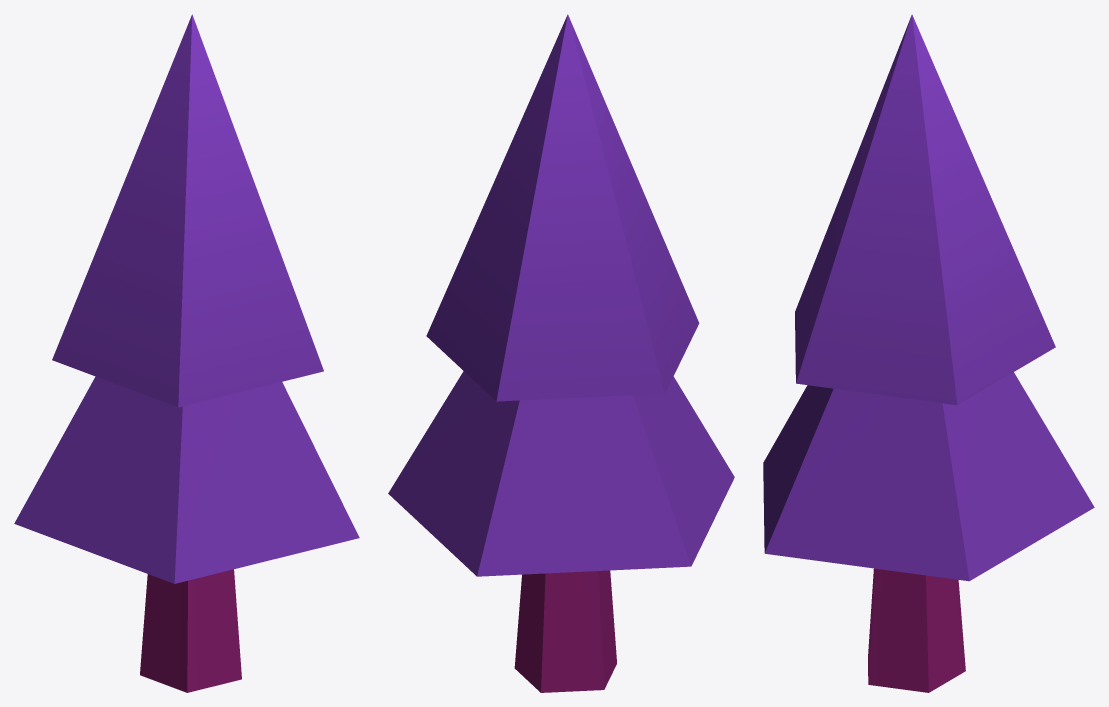
The model's file is alien_tree_1.obj.
3 views of the same model, side by side, from view 1: azimuth 30°, elevation 25°; view 2: azimuth 150°, elevation 25°; view 3: azimuth 270°, elevation 25° (orthographic).
Parts seen in each view (by area): view 1: tree_single_A; view 2: tree_single_A; view 3: tree_single_A.
Part boxes in pixels (box(x1,y1,x2,y2)): tree_single_A: box(14, 14, 359, 692); tree_single_A: box(388, 14, 734, 692); tree_single_A: box(763, 14, 1094, 692).
Bounding box in the file's own units: 0.574 × 1.2 × 0.547.
Materials: 1 (1 with a texture image).
